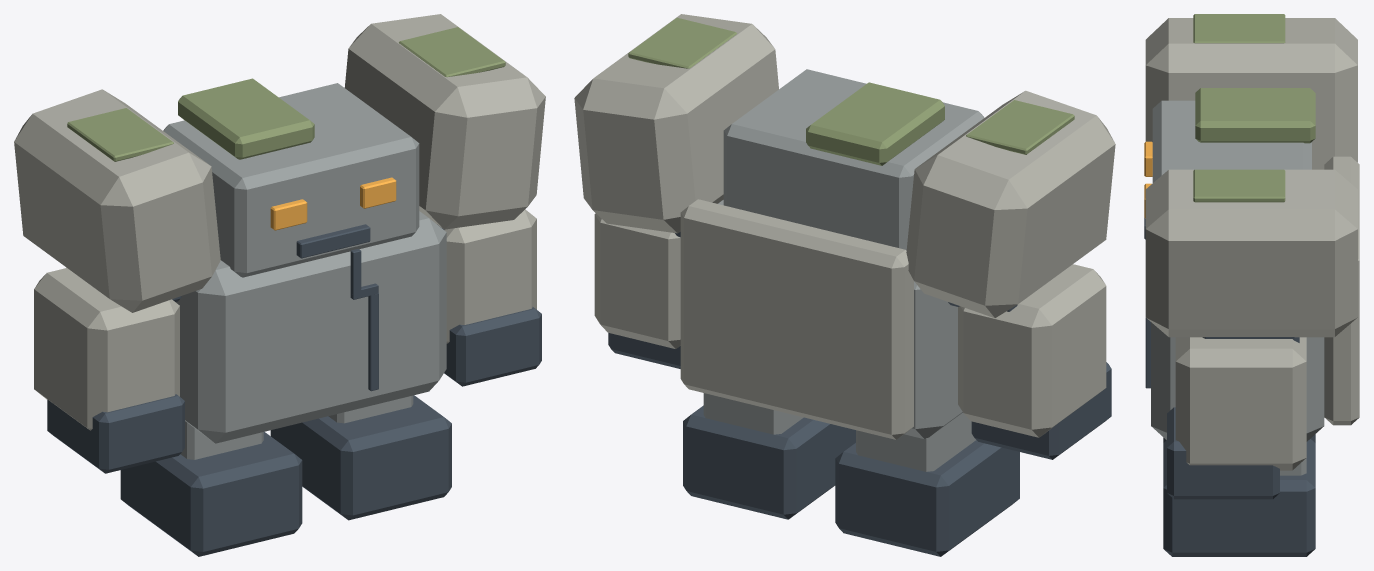
Rendered from EnemyStoneArmor.fbx.
3 views of the same model, side by side, from view 1: azimuth 30°, elevation 25°; view 2: azimuth 150°, elevation 25°; view 3: azimuth 270°, elevation 25° (orthographic). The views are drawn at different scales.
Parts seen in each view (by area): view 1: EnemyStoneArmor; view 2: EnemyStoneArmor; view 3: EnemyStoneArmor.
Part boxes in pixels (x1,y1,x2,y2): EnemyStoneArmor: (14,14,545,556); EnemyStoneArmor: (574,14,1115,556); EnemyStoneArmor: (1144,14,1359,556).
Bounding box in the file's own units: 141 × 123 × 60.9.
